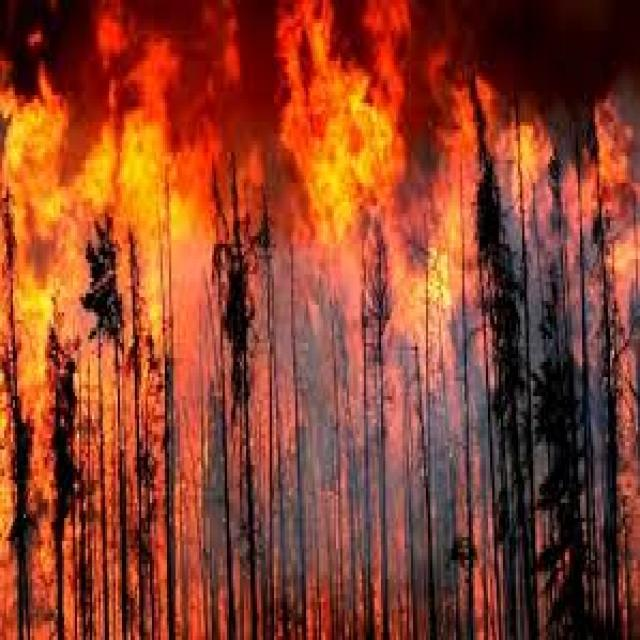Fire: (4, 0, 298, 640), (66, 340, 212, 600), (280, 1, 410, 256), (90, 142, 213, 340), (2, 101, 88, 272)
Smoke: (469, 305, 594, 550), (484, 0, 596, 107)
